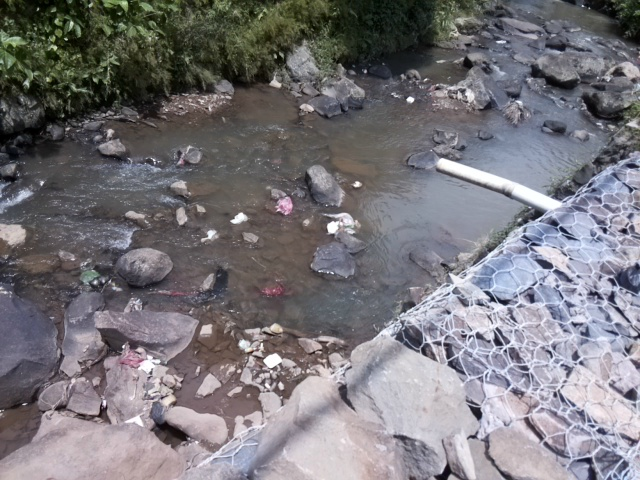Sampah_Plastik: (118, 344, 143, 370), (276, 195, 295, 217), (337, 212, 360, 229), (262, 284, 286, 299)
Sampah_Styrofoam: (264, 353, 283, 368), (230, 211, 248, 224), (325, 219, 337, 234), (406, 94, 414, 103)
